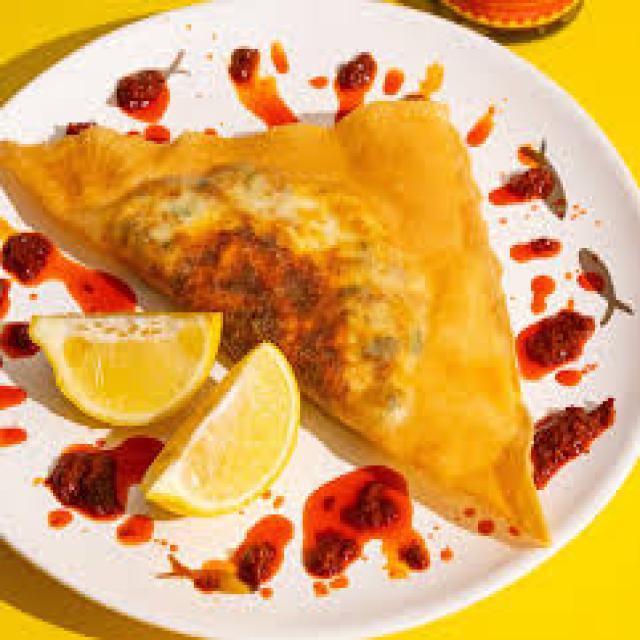Brik: (0, 101, 548, 544)
